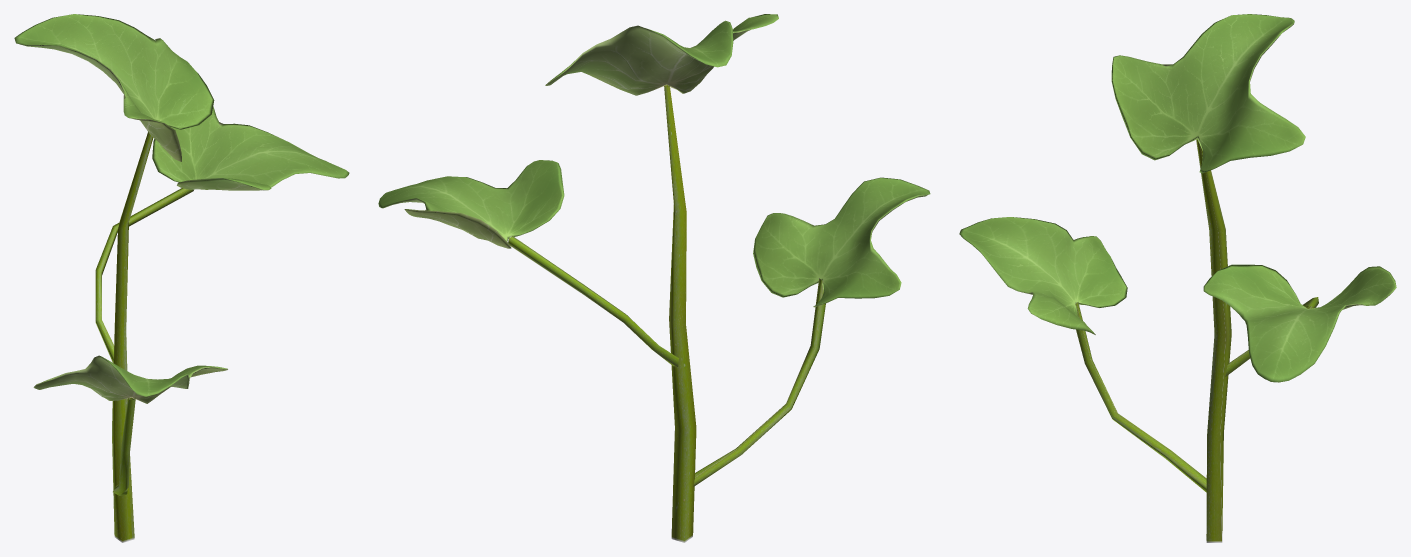
File: UpBrnchyoung.fbx
3 views of the same model, side by side, from view 1: azimuth 30°, elevation 25°; view 2: azimuth 150°, elevation 25°; view 3: azimuth 270°, elevation 25° (orthographic). The views are drawn at different scales.
Parts seen in each view (by area): view 1: UpBrnch1; view 2: UpBrnch1; view 3: UpBrnch1.
Boxes of the visible parts, x1,y1,x2,y2 form: UpBrnch1: [14, 14, 349, 542]; UpBrnch1: [378, 14, 930, 542]; UpBrnch1: [959, 14, 1396, 542].
Size of the model in its own units: 1.17 by 1.4 by 1.11.
